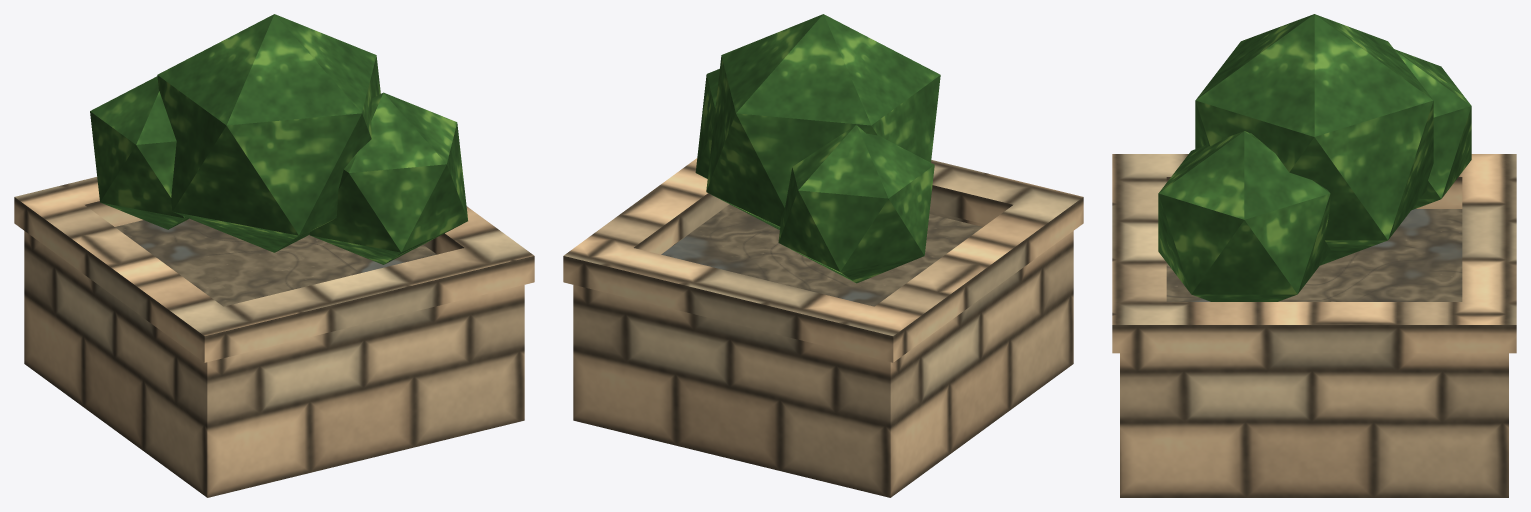
The model's file is planter_box.glb.
3 renders of one model, left to right at view 1: azimuth 30°, elevation 25°; view 2: azimuth 150°, elevation 25°; view 3: azimuth 270°, elevation 25°, orthographic. The views are drawn at different scales.
Visible parts, largest first — view 1: planter_box; view 2: planter_box; view 3: planter_box.
Part boxes in pixels (x1,y1,x2,y2): planter_box: (14, 14, 534, 497); planter_box: (563, 14, 1083, 497); planter_box: (1112, 14, 1516, 497).
Bounding box in the file's own units: 1.04 × 1.14 × 1.04.
Materials: 3 (3 with a texture image).
